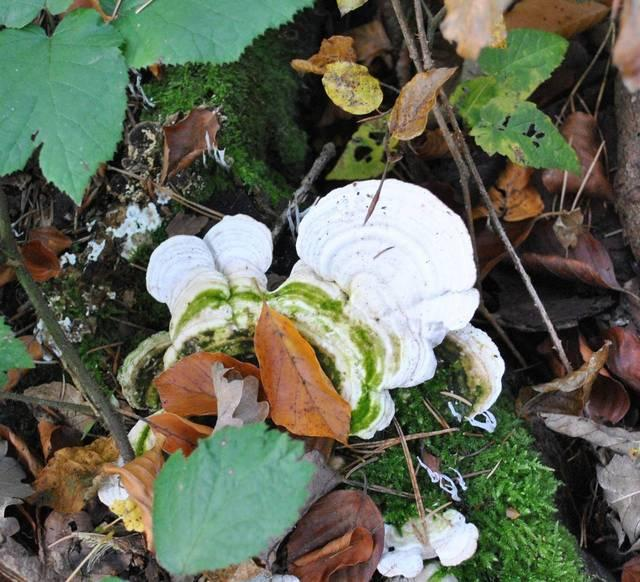poisonous_mushroom: (124, 175, 500, 442)
